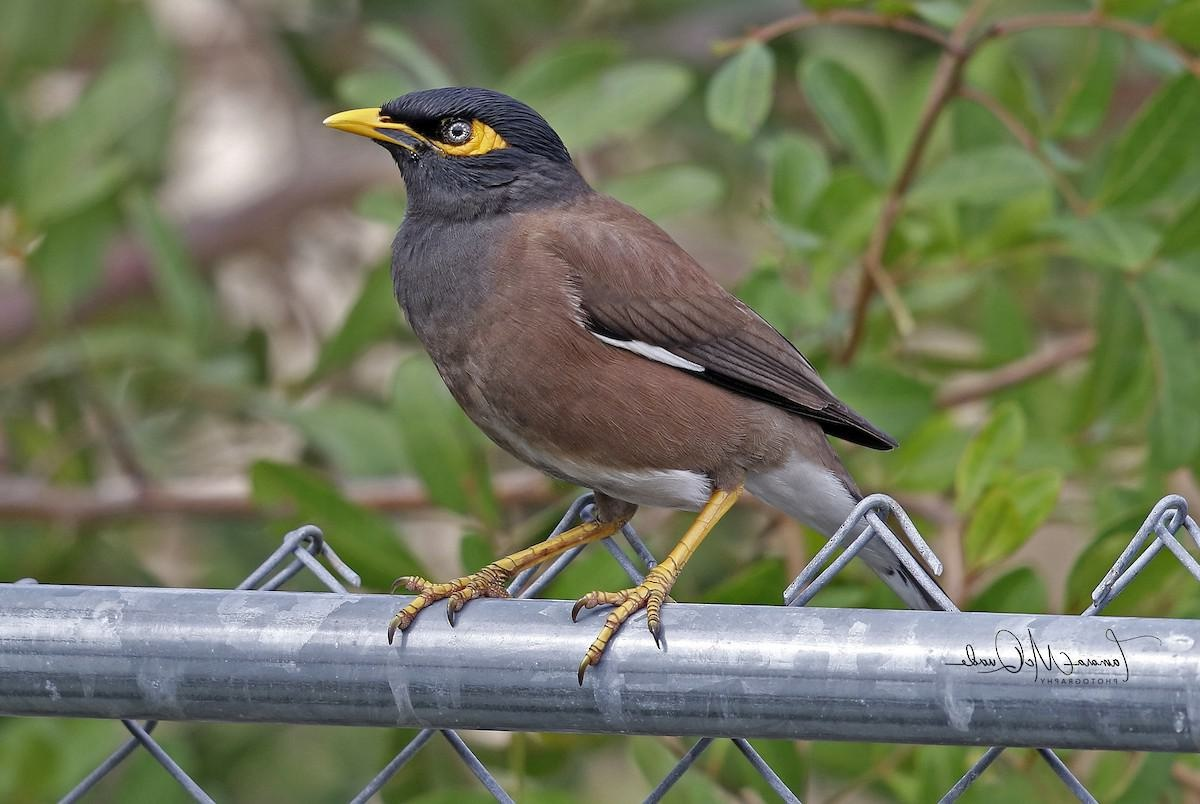myna: (311, 62, 856, 625)
